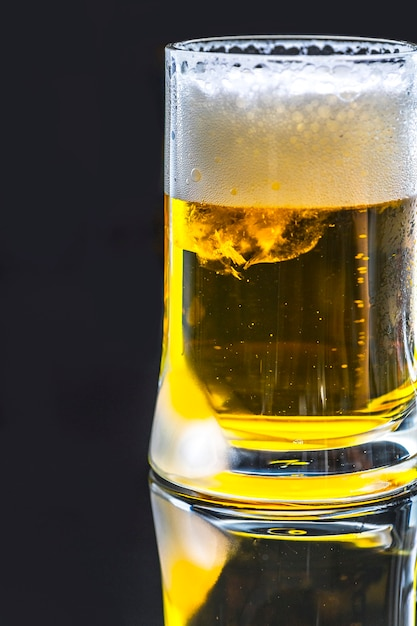alcohol: (148, 35, 417, 517)
